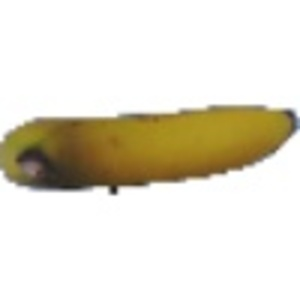banana: (3, 75, 299, 190)
